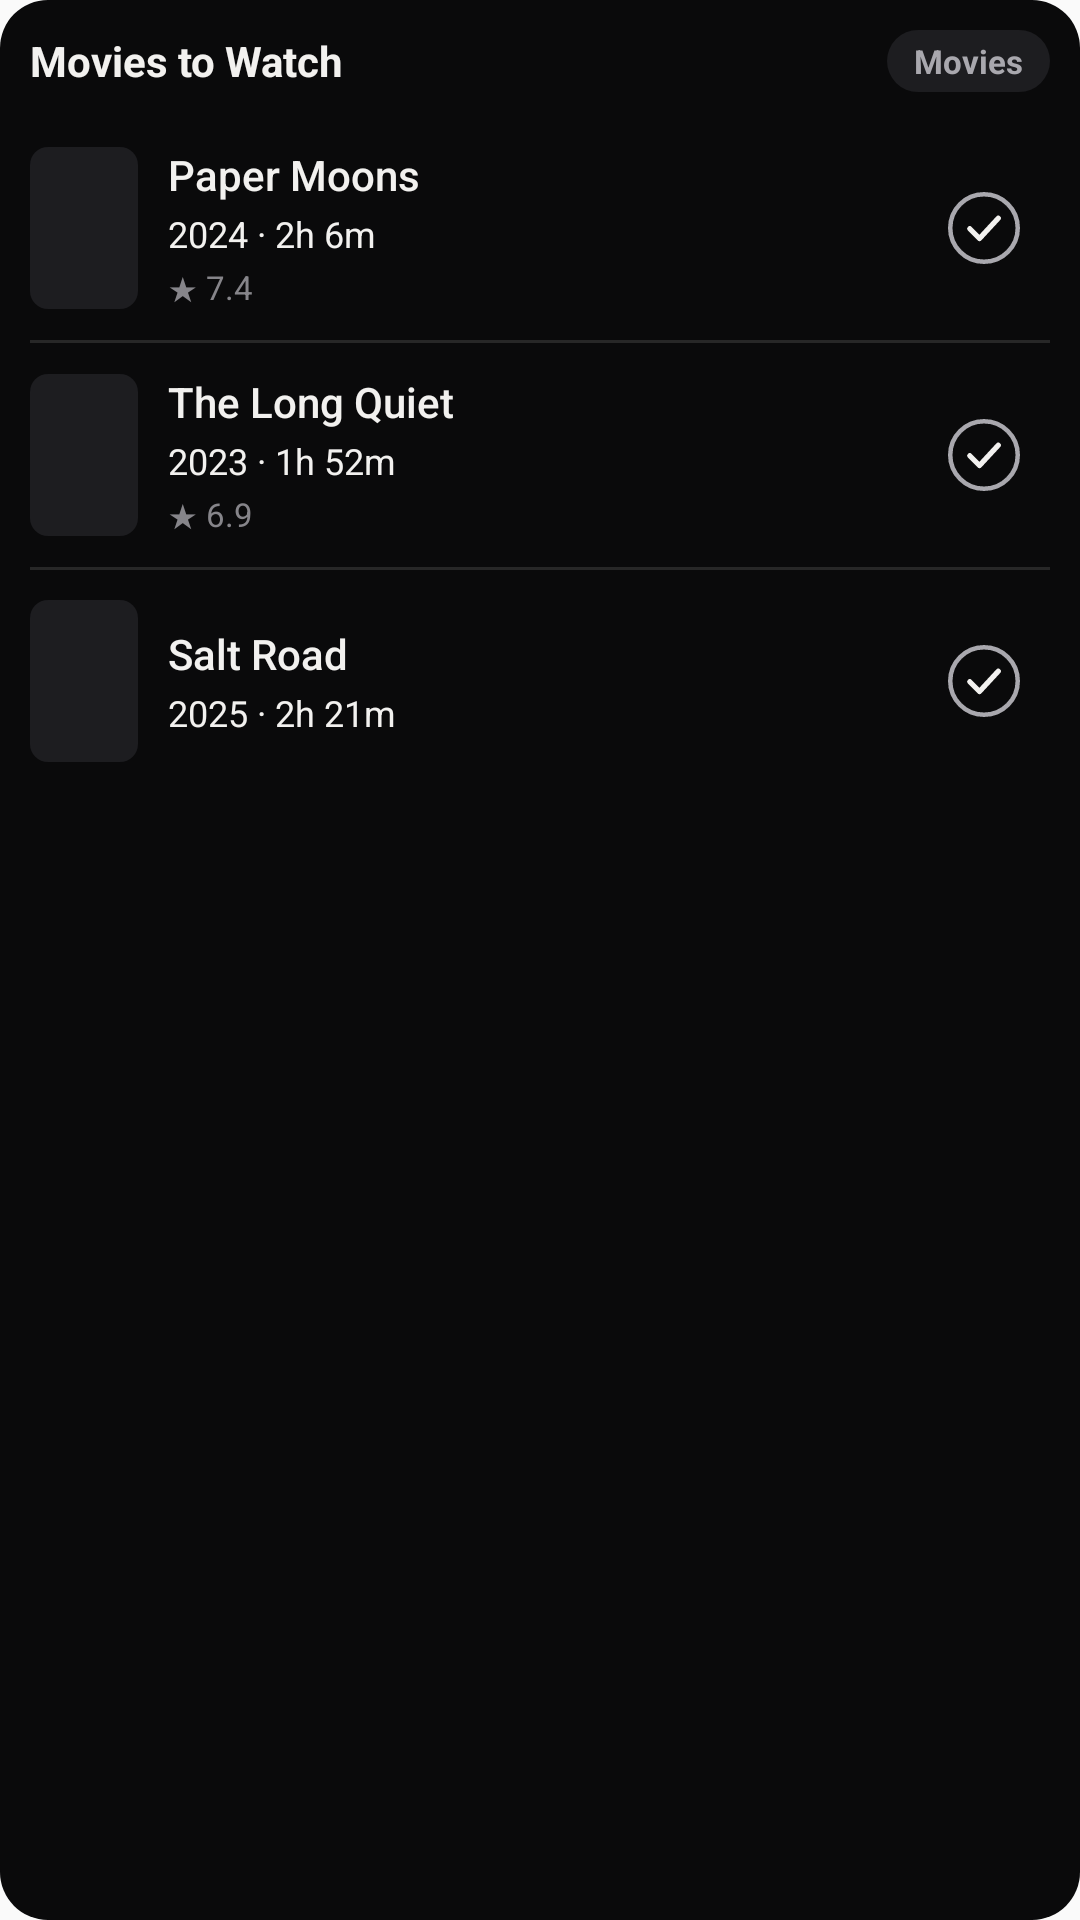

Named icons in this screenshot (1080×1920) and their centers, (x=x, y=y):
widget tick: (x=984, y=228), (x=984, y=455), (x=984, y=681)
